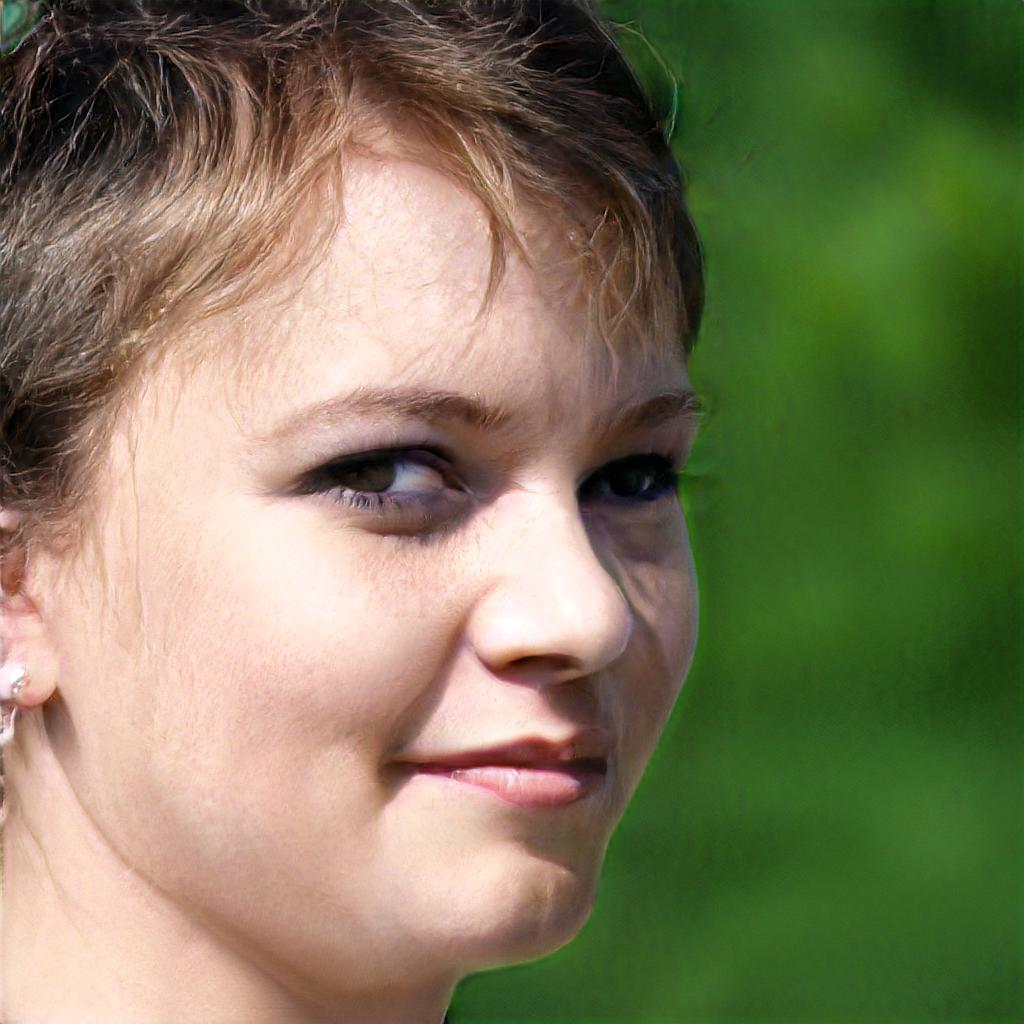face: (63, 150, 702, 963)
